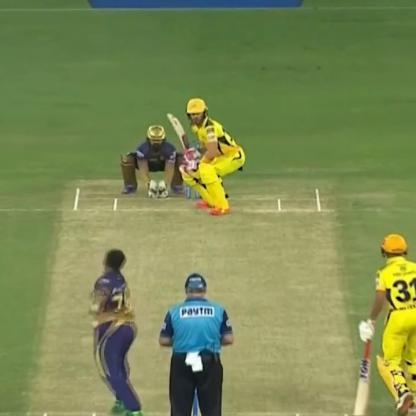ball: (83, 315, 105, 336), (83, 302, 104, 312)
bat: (349, 318, 378, 416), (161, 110, 205, 168)
pitch: (34, 176, 369, 415)
